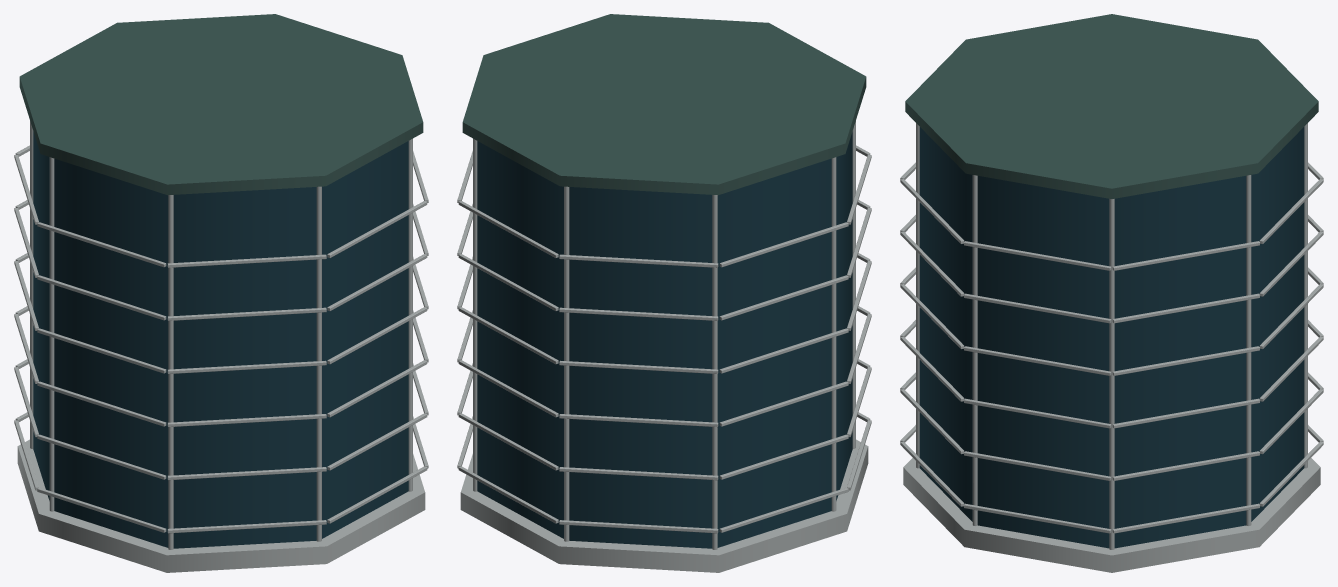
Rendered from octagon-church.glb.
The picture shows the model from 3 angles, left to right: view 1: azimuth 30°, elevation 25°; view 2: azimuth 150°, elevation 25°; view 3: azimuth 270°, elevation 25°; orthographic projection.
Parts seen in each view (by area): view 1: DC_Mesh_DC_BlueGlass, DC_Mesh_DC_Roof, DC_Mesh_DC_Concrete; view 2: DC_Mesh_DC_BlueGlass, DC_Mesh_DC_Roof, DC_Mesh_DC_Concrete; view 3: DC_Mesh_DC_BlueGlass, DC_Mesh_DC_Roof, DC_Mesh_DC_Concrete.
Boxes of the visible parts, <box> form: DC_Mesh_DC_BlueGlass: <box>33,131,408,548</box>; DC_Mesh_DC_Roof: <box>19,14,423,195</box>; DC_Mesh_DC_Concrete: <box>14,121,428,572</box>; DC_Mesh_DC_BlueGlass: <box>477,131,852,548</box>; DC_Mesh_DC_Roof: <box>462,14,866,195</box>; DC_Mesh_DC_Concrete: <box>457,121,871,572</box>; DC_Mesh_DC_BlueGlass: <box>919,127,1304,548</box>; DC_Mesh_DC_Roof: <box>905,14,1318,198</box>; DC_Mesh_DC_Concrete: <box>900,123,1323,572</box>.
Size of the model in its own units: 10.95 by 10.95 by 10.95.
